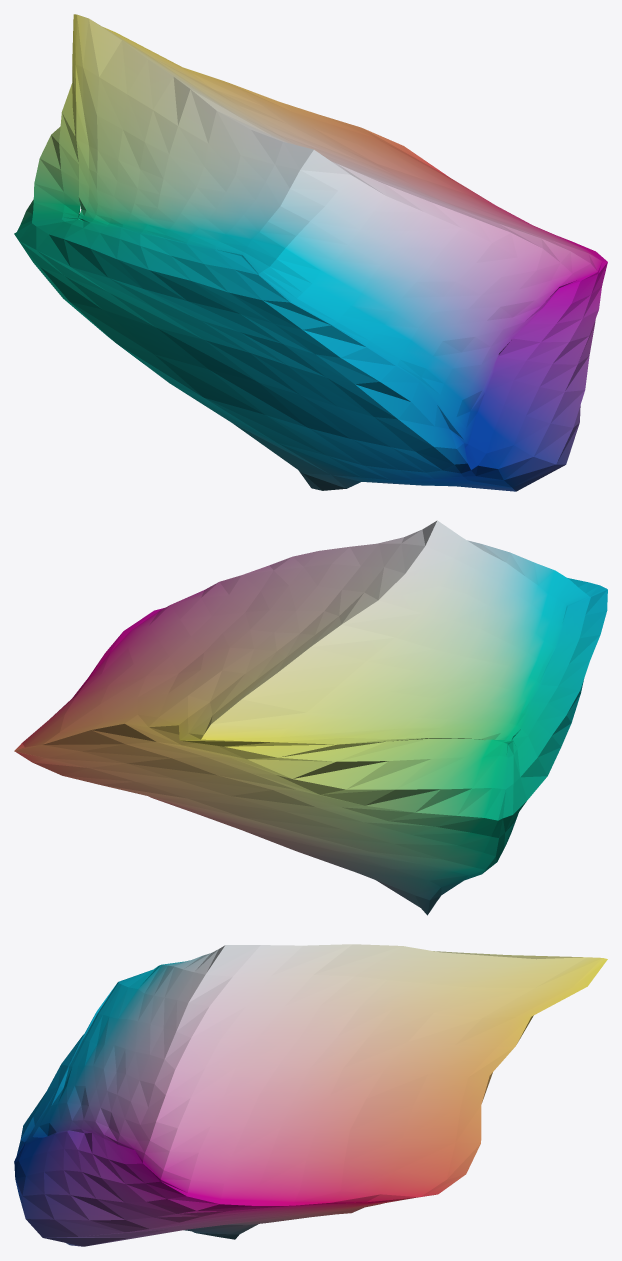
File: epson_in_abL_output(4).glb
3 renders of one model, top to bottom at view 1: azimuth 30°, elevation 25°; view 2: azimuth 150°, elevation 25°; view 3: azimuth 270°, elevation 25°, orthographic. The views are drawn at different scales.
Parts seen in each view (by area): view 1: world; view 2: world; view 3: world.
Part boxes in pixels (box(x1,y1,x2,y2)): world: box(14, 14, 607, 491); world: box(14, 520, 607, 915); world: box(14, 944, 607, 1246).
Size of the model in its own units: 131 by 93.87 by 172.
